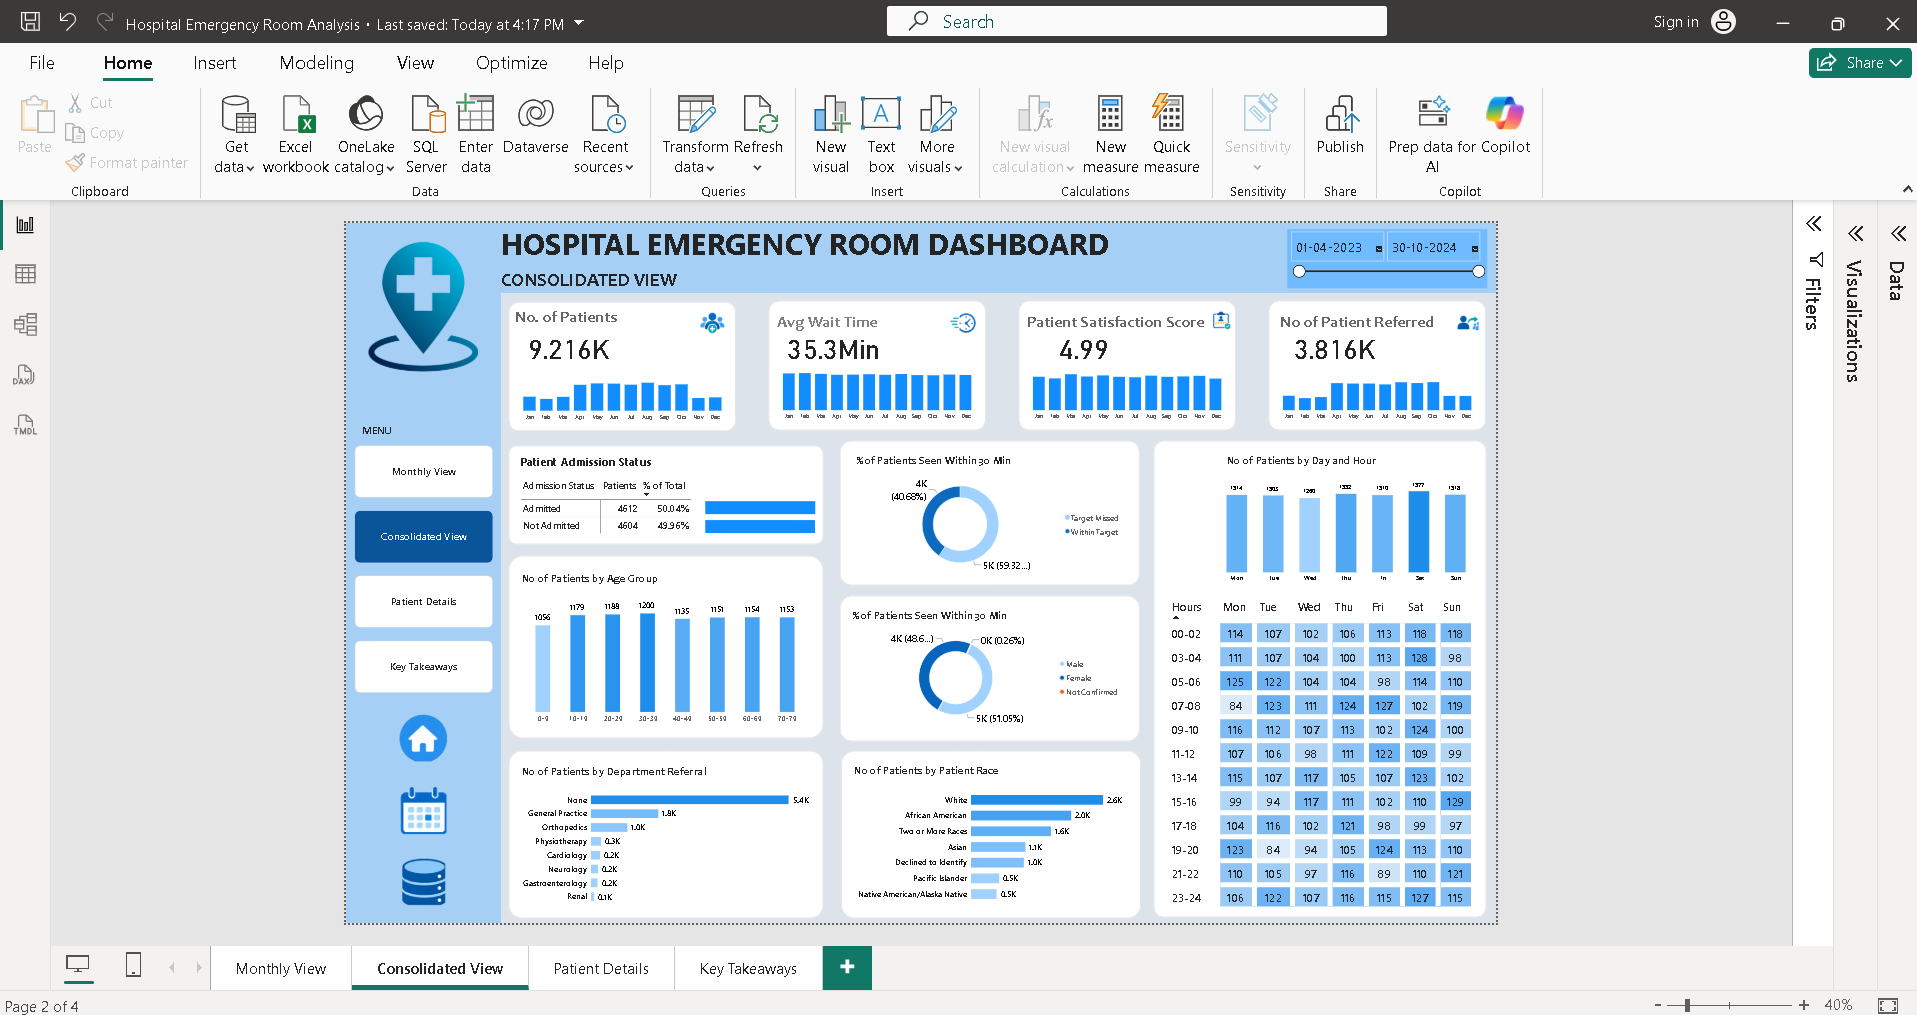

The page's visual inventory and layout, read from the dashboard file:
{"tool":"powerbi","page":{"name":"Consolidated View","canvas":[2300,1400],"ordinal":1},"visuals":[{"type":"shape","box":[0,0,310,1400],"z":0},{"type":"shape","box":[310,0,1990,140],"z":1000},{"type":"textbox","box":[310,0,1247.5,90],"z":2000},{"type":"textbox","box":[310,90,422.5,50],"z":3000},{"type":"shape","box":[323.8,156.2,455,259],"z":4000},{"type":"cardVisual","fields":{"Data":["Hospital ER_Data.No of Patients"]},"box":[336.7,216.7,216.7,70],"z":5000},{"type":"slicer","fields":{"Values":["Date Table.Date"]},"box":[1881.2,11.2,398.8,117.5],"z":6000},{"type":"shape","box":[843.9,155,435,260],"z":7000},{"type":"textbox","box":[337.5,167.5,282.5,50],"z":8000},{"type":"columnChart","fields":{"Category":["Date Table.Month Name"],"Y":["Hospital ER_Data.No of Patients"]},"box":[324,270,456,146],"z":9000},{"type":"shape","box":[1344.4,155,435,260],"z":10000},{"type":"shape","box":[1845,155,435,260],"z":11000},{"type":"textbox","box":[1868,178,378,50],"z":12000},{"type":"textbox","box":[861.9,177.5,282.5,50],"z":13000},{"type":"textbox","box":[1362,178,384,50],"z":14000},{"type":"cardVisual","fields":{"Data":["Hospital ER_Data.Avg Wait Time"]},"box":[862,218,226,68],"z":15000},{"type":"columnChart","fields":{"Category":["Date Table.Month Name"],"Y":["Avg(Hospital ER_Data.Patient Waittime)"]},"box":[844,270,435,145],"z":16000},{"type":"cardVisual","fields":{"Data":["Hospital ER_Data.Satisfaction Score"]},"box":[1362,218,226,68],"z":17000},{"type":"columnChart","fields":{"Category":["Date Table.Month Name"],"Y":["Hospital ER_Data.Satisfaction Score"]},"box":[1344,270,435,145],"z":18000},{"type":"shape","box":[324,444,630,198],"z":19000},{"type":"cardVisual","fields":{"Data":["Hospital ER_Data.No of Patient Referred"]},"box":[1863.3,218.3,230,68.3],"z":20000},{"type":"columnChart","fields":{"Category":["Date Table.Month Name"],"Y":["Hospital ER_Data.No of Patient Referred"]},"box":[1846,270,435,145],"z":21000},{"type":"pivotTable","title":"Patient Admission Status","fields":{"Rows":["Hospital ER_Data.Admission Status"],"Values":["Hospital ER_Data.No of Patients1","Hospital ER_Data.No of Patients"]},"box":[336,448,606,190],"z":22000},{"type":"barChart","fields":{"Category":["Hospital ER_Data.Admission Status"],"Y":["Hospital ER_Data.No of Patients"]},"box":[702,516,252,142],"z":23000},{"type":"shape","box":[324,666,630,366],"z":24000},{"type":"columnChart","title":"No of Patients by Age Group","fields":{"Category":["Hospital ER_Data.Age Group"],"Y":["Hospital ER_Data.No of Patients"]},"box":[334,682,608,340],"z":25000},{"type":"shape","box":[324,1054,630,336],"z":26000},{"type":"clusteredBarChart","fields":{"Category":["Hospital ER_Data.Department Referral"],"Y":["Hospital ER_Data.No of Patients"]},"box":[334,1068,610,316],"z":27000},{"type":"shape","box":[988,436,600,290],"z":28000},{"type":"donutChart","title":"% of Patients Seen Within 30 Min","fields":{"Category":["Hospital ER_Data.Waittime Status"],"Y":["Hospital ER_Data.No of Patients"]},"box":[1004,444,566,272],"z":29000},{"type":"shape","box":[988,744,600,292],"z":30000},{"type":"donutChart","title":"% of Patients Seen Within 30 Min","fields":{"Category":["Hospital ER_Data.Patient Gender"],"Y":["Hospital ER_Data.No of Patients"]},"box":[998,756,572,266],"z":31000},{"type":"shape","box":[990,1054,600,336],"z":32000},{"type":"clusteredBarChart","fields":{"Category":["Hospital ER_Data.Patient Race"],"Y":["Hospital ER_Data.No of Patients"]},"box":[1000,1066,574,316],"z":33000},{"type":"shape","box":[1616,436,666,954],"z":34000},{"type":"pivotTable","fields":{"Columns":["Date Table.Day Name"],"Rows":["Hospital ER_Data.Waittime Interval"],"Values":["Hospital ER_Data.No of Patients"]},"box":[1630,732,638,650],"z":35000},{"type":"columnChart","title":"No of Patients by Day and Hour","fields":{"Category":["Date Table.Day Name"],"Y":["Hospital ER_Data.No of Patients"]},"box":[1745.7,444.3,512.9,294.3],"z":36000},{"type":"image","box":[17.5,37.5,275,260],"z":37000},{"type":"pageNavigator","box":[18,444,276,496],"z":38000},{"type":"textbox","box":[33.3,402.2,85.6,33.3],"z":39000},{"type":"image","box":[702.5,170,60,60],"z":39001},{"type":"image","box":[1200,175,62.5,55],"z":39002},{"type":"image","box":[1715,172.5,62.5,55],"z":39003},{"type":"image","box":[2207.5,172.5,62.5,55],"z":39004},{"type":"image","box":[90,967.5,130,125],"z":39005},{"type":"image","box":[90,1112.5,130,125],"z":39006},{"type":"image","box":[90,1255,130,125],"z":39007}]}

Visuals, with their boxes on the page's 2300x1400 design canvas (x1, y1, x2, y2). These are canvas units, not pixel positions in the 1917x1015 screenshot, which may show the page scaled, cropped or inside an application window:
shape: box(0, 0, 310, 1400)
shape: box(310, 0, 2300, 140)
textbox: box(310, 0, 1558, 90)
textbox: box(310, 90, 732, 140)
shape: box(324, 156, 779, 415)
cardVisual - Hospital ER_Data.No of Patients: box(337, 217, 553, 287)
slicer - Date Table.Date: box(1881, 11, 2280, 129)
shape: box(844, 155, 1279, 415)
textbox: box(338, 168, 620, 218)
columnChart - Date Table.Month Name x Hospital ER_Data.No of Patients: box(324, 270, 780, 416)
shape: box(1344, 155, 1779, 415)
shape: box(1845, 155, 2280, 415)
textbox: box(1868, 178, 2246, 228)
textbox: box(862, 178, 1144, 228)
textbox: box(1362, 178, 1746, 228)
cardVisual - Hospital ER_Data.Avg Wait Time: box(862, 218, 1088, 286)
columnChart - Date Table.Month Name x Avg(Hospital ER_Data.Patient Waittime): box(844, 270, 1279, 415)
cardVisual - Hospital ER_Data.Satisfaction Score: box(1362, 218, 1588, 286)
columnChart - Date Table.Month Name x Hospital ER_Data.Satisfaction Score: box(1344, 270, 1779, 415)
shape: box(324, 444, 954, 642)
cardVisual - Hospital ER_Data.No of Patient Referred: box(1863, 218, 2093, 287)
columnChart - Date Table.Month Name x Hospital ER_Data.No of Patient Referred: box(1846, 270, 2281, 415)
"Patient Admission Status" pivotTable: box(336, 448, 942, 638)
barChart - Hospital ER_Data.Admission Status x Hospital ER_Data.No of Patients: box(702, 516, 954, 658)
shape: box(324, 666, 954, 1032)
"No of Patients by Age Group" columnChart: box(334, 682, 942, 1022)
shape: box(324, 1054, 954, 1390)
clusteredBarChart - Hospital ER_Data.Department Referral x Hospital ER_Data.No of Patients: box(334, 1068, 944, 1384)
shape: box(988, 436, 1588, 726)
"% of Patients Seen Within 30 Min" donutChart: box(1004, 444, 1570, 716)
shape: box(988, 744, 1588, 1036)
"% of Patients Seen Within 30 Min" donutChart: box(998, 756, 1570, 1022)
shape: box(990, 1054, 1590, 1390)
clusteredBarChart - Hospital ER_Data.Patient Race x Hospital ER_Data.No of Patients: box(1000, 1066, 1574, 1382)
shape: box(1616, 436, 2282, 1390)
pivotTable - Date Table.Day Name x Hospital ER_Data.Waittime Interval: box(1630, 732, 2268, 1382)
"No of Patients by Day and Hour" columnChart: box(1746, 444, 2259, 739)
image: box(18, 38, 292, 298)
pageNavigator: box(18, 444, 294, 940)
textbox: box(33, 402, 119, 436)
image: box(702, 170, 762, 230)
image: box(1200, 175, 1262, 230)
image: box(1715, 172, 1778, 228)
image: box(2208, 172, 2270, 228)
image: box(90, 968, 220, 1092)
image: box(90, 1112, 220, 1238)
image: box(90, 1255, 220, 1380)
